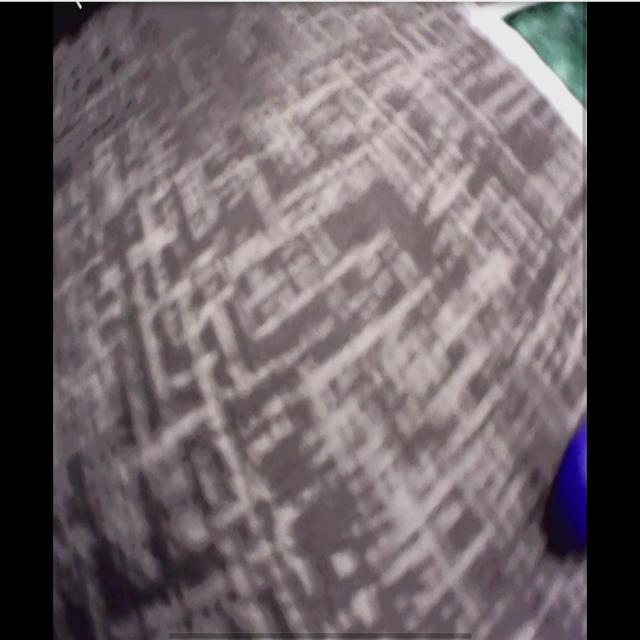ball: (564, 421, 589, 547)
